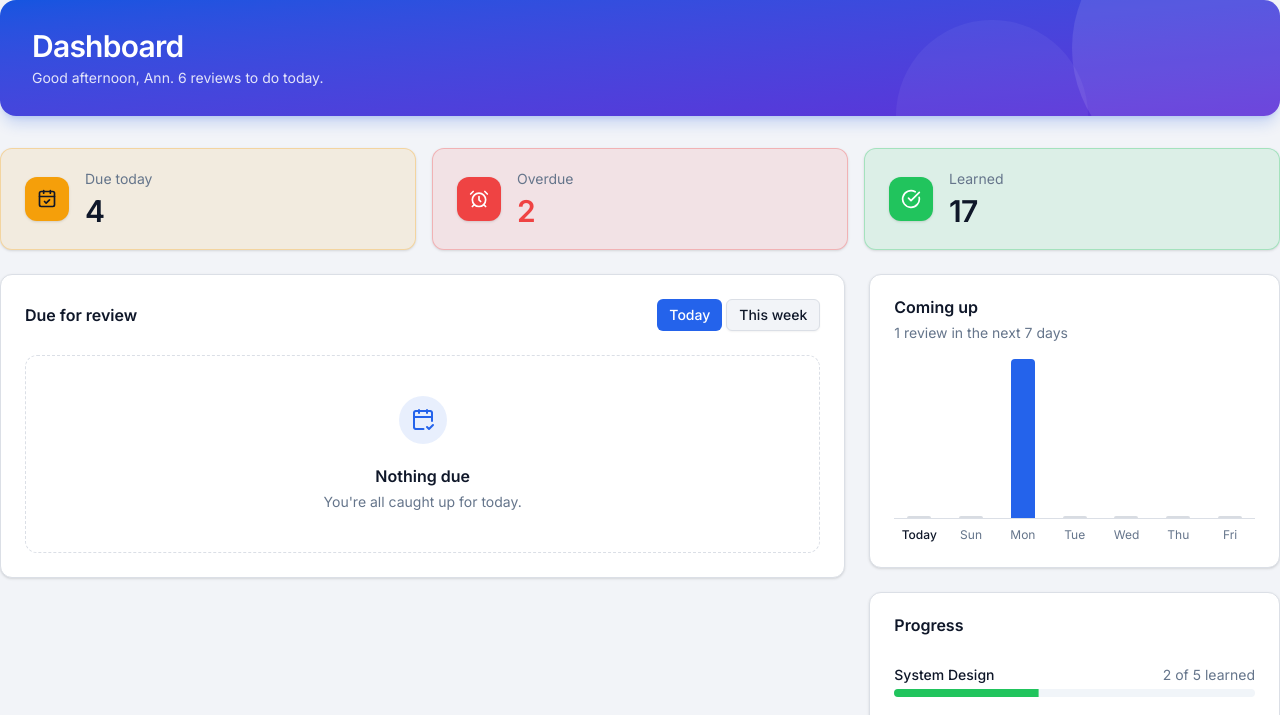
Scenario: review forecast › shows a day's figure on hover
The width and height of the screenshot is (1280, 715).
Hover over the list item named "Sep 28, 2026: 1 review" at coordinates (1023, 438), box [1011,359,1035,518]
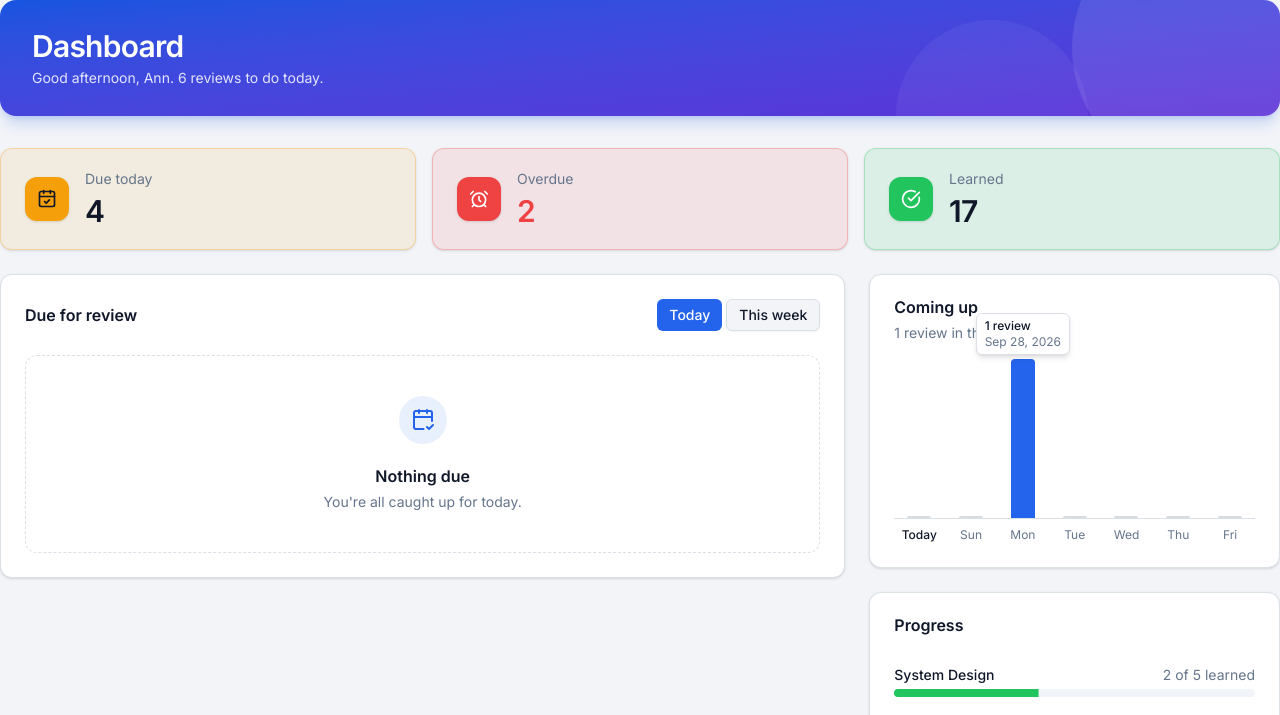
Expected: the text "1 review" is shown, [985,318,1031,333]
